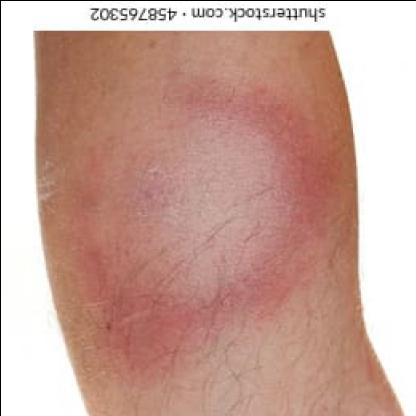Tick: (69, 70, 342, 392)
